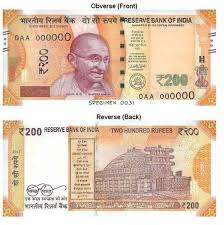twoHundred: (15, 27, 199, 89)
